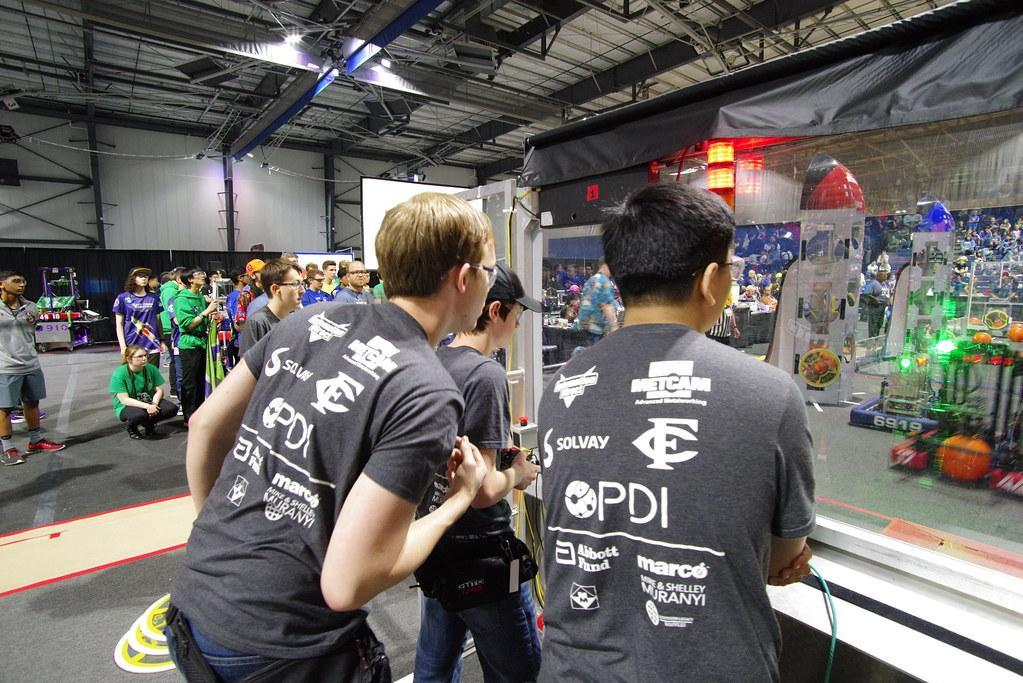robot: (846, 227, 981, 437), (890, 331, 1023, 505)
